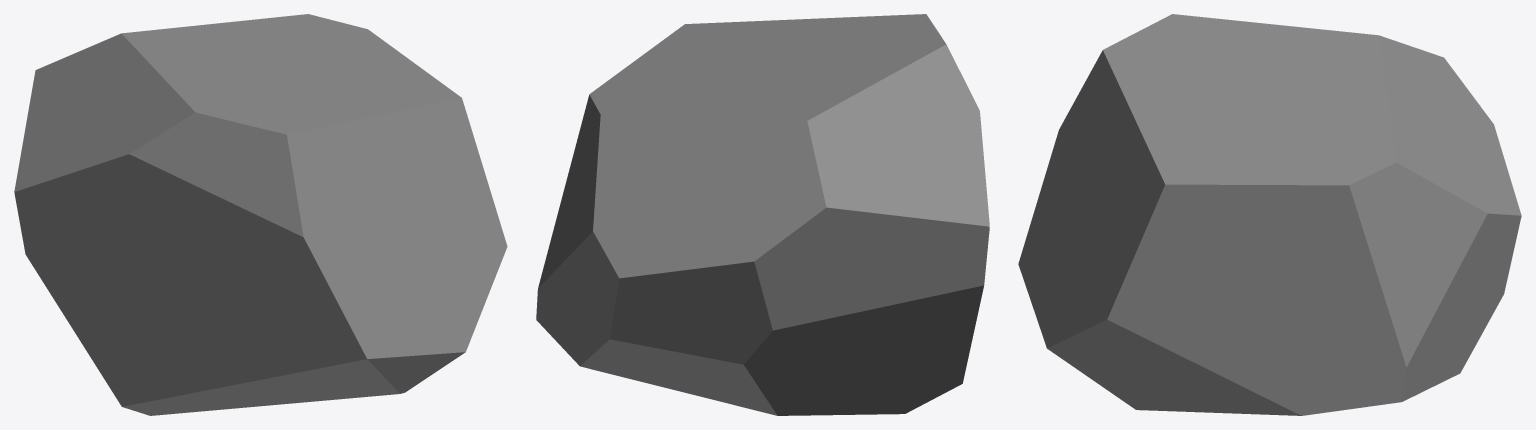
File: Rock3.fbx
3 renders of one model, left to right at view 1: azimuth 30°, elevation 25°; view 2: azimuth 150°, elevation 25°; view 3: azimuth 270°, elevation 25°, orthographic. The views are drawn at different scales.
Visible parts, largest first — view 1: Cube.001; view 2: Cube.001; view 3: Cube.001.
Part boxes in pixels (left/top/right/bottom): Cube.001: left=14, top=14, right=507, bottom=415; Cube.001: left=536, top=14, right=989, bottom=415; Cube.001: left=1018, top=14, right=1521, bottom=415.
Size of the model in its own units: 1791 by 1424 by 1992.
